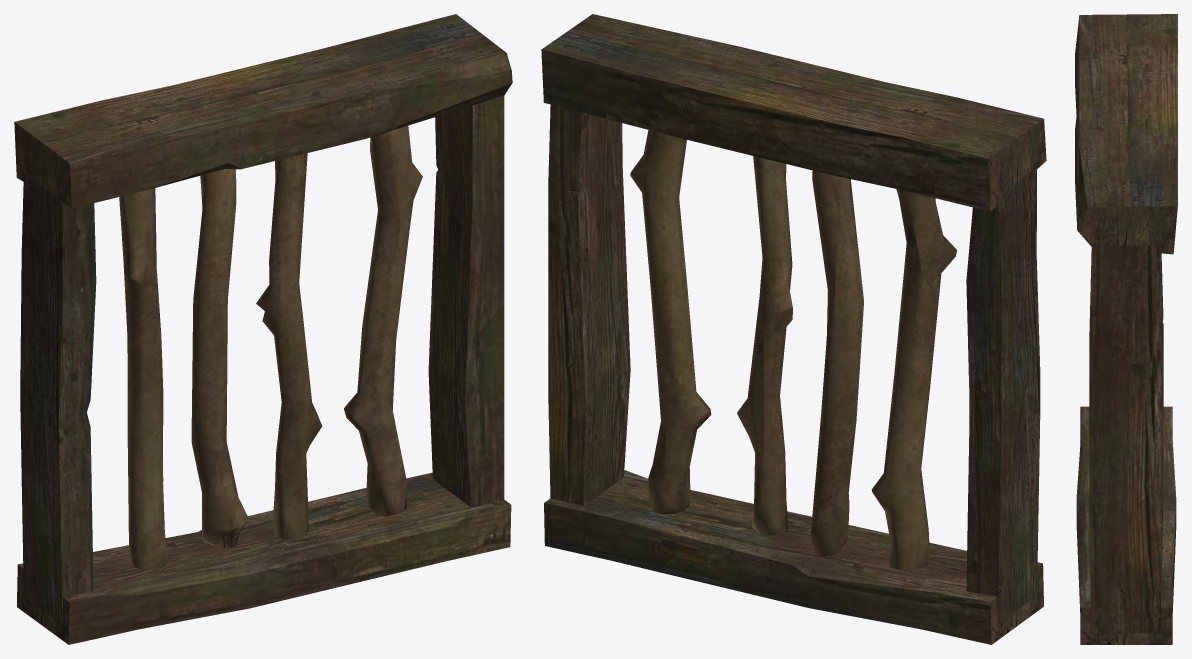
The picture shows the model from 3 angles, left to right: view 1: azimuth 30°, elevation 25°; view 2: azimuth 150°, elevation 25°; view 3: azimuth 270°, elevation 25°; orthographic projection. The views are drawn at different scales.
Parts seen in each view (by area): view 1: SM_BB_T1_Window_LOD0; view 2: SM_BB_T1_Window_LOD0; view 3: SM_BB_T1_Window_LOD0.
Boxes of the visible parts, x1,y1,x2,y2 form: SM_BB_T1_Window_LOD0: (14,14,512,644); SM_BB_T1_Window_LOD0: (541,14,1046,644); SM_BB_T1_Window_LOD0: (1075,14,1177,644).
Size of the model in its own units: 1.27 by 1.33 by 0.2827.
Materials: 1 (1 with a texture image).
